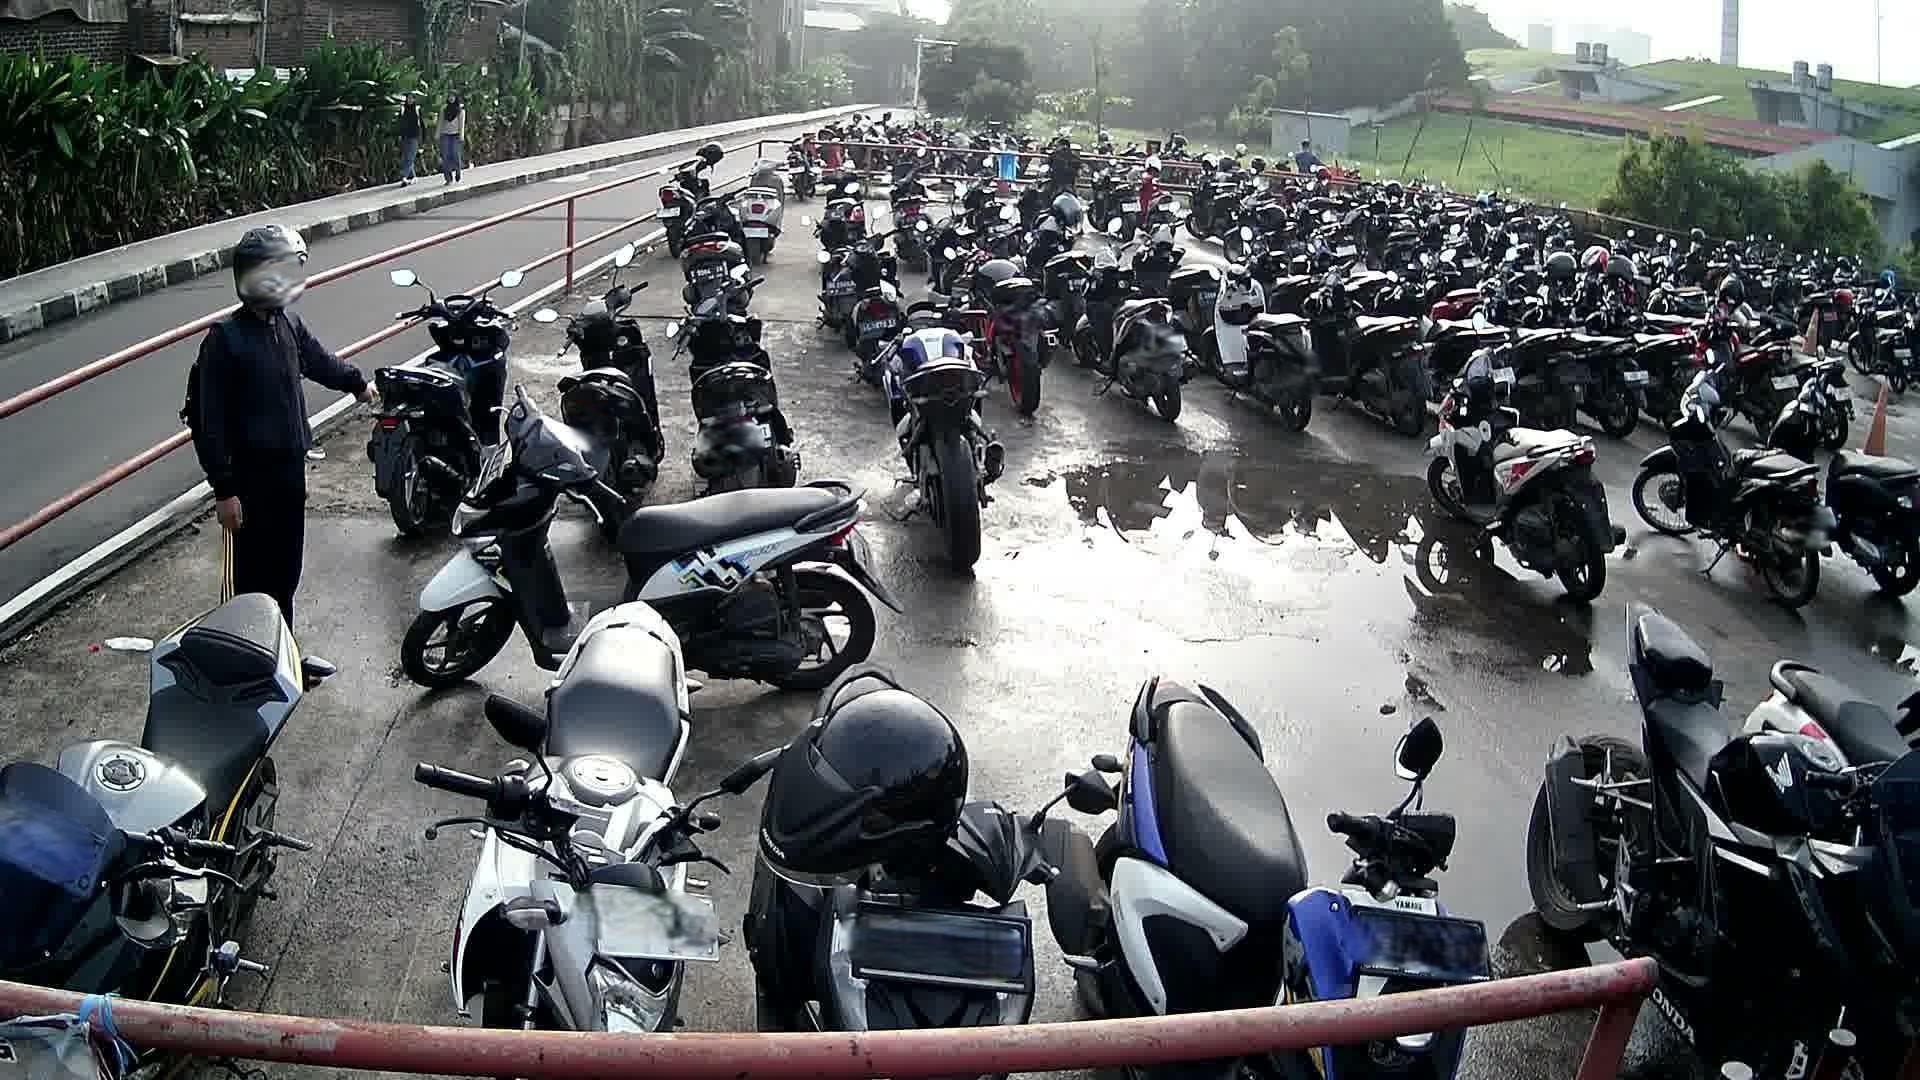motorcycle: (1044, 671, 1499, 1080), (1530, 607, 1920, 1080), (0, 589, 343, 1080), (401, 389, 902, 691), (413, 603, 740, 1030), (738, 663, 1050, 1027), (1428, 326, 1629, 607), (1635, 351, 1834, 611), (367, 262, 526, 533), (869, 274, 1006, 571), (1770, 365, 1920, 607), (535, 248, 670, 516), (667, 268, 804, 487), (1745, 657, 1920, 781)
